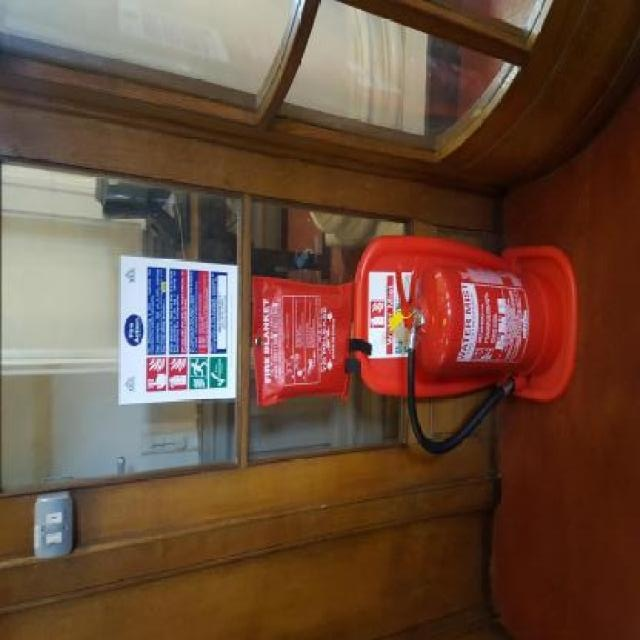fire extinguisher: (392, 259, 560, 459)
